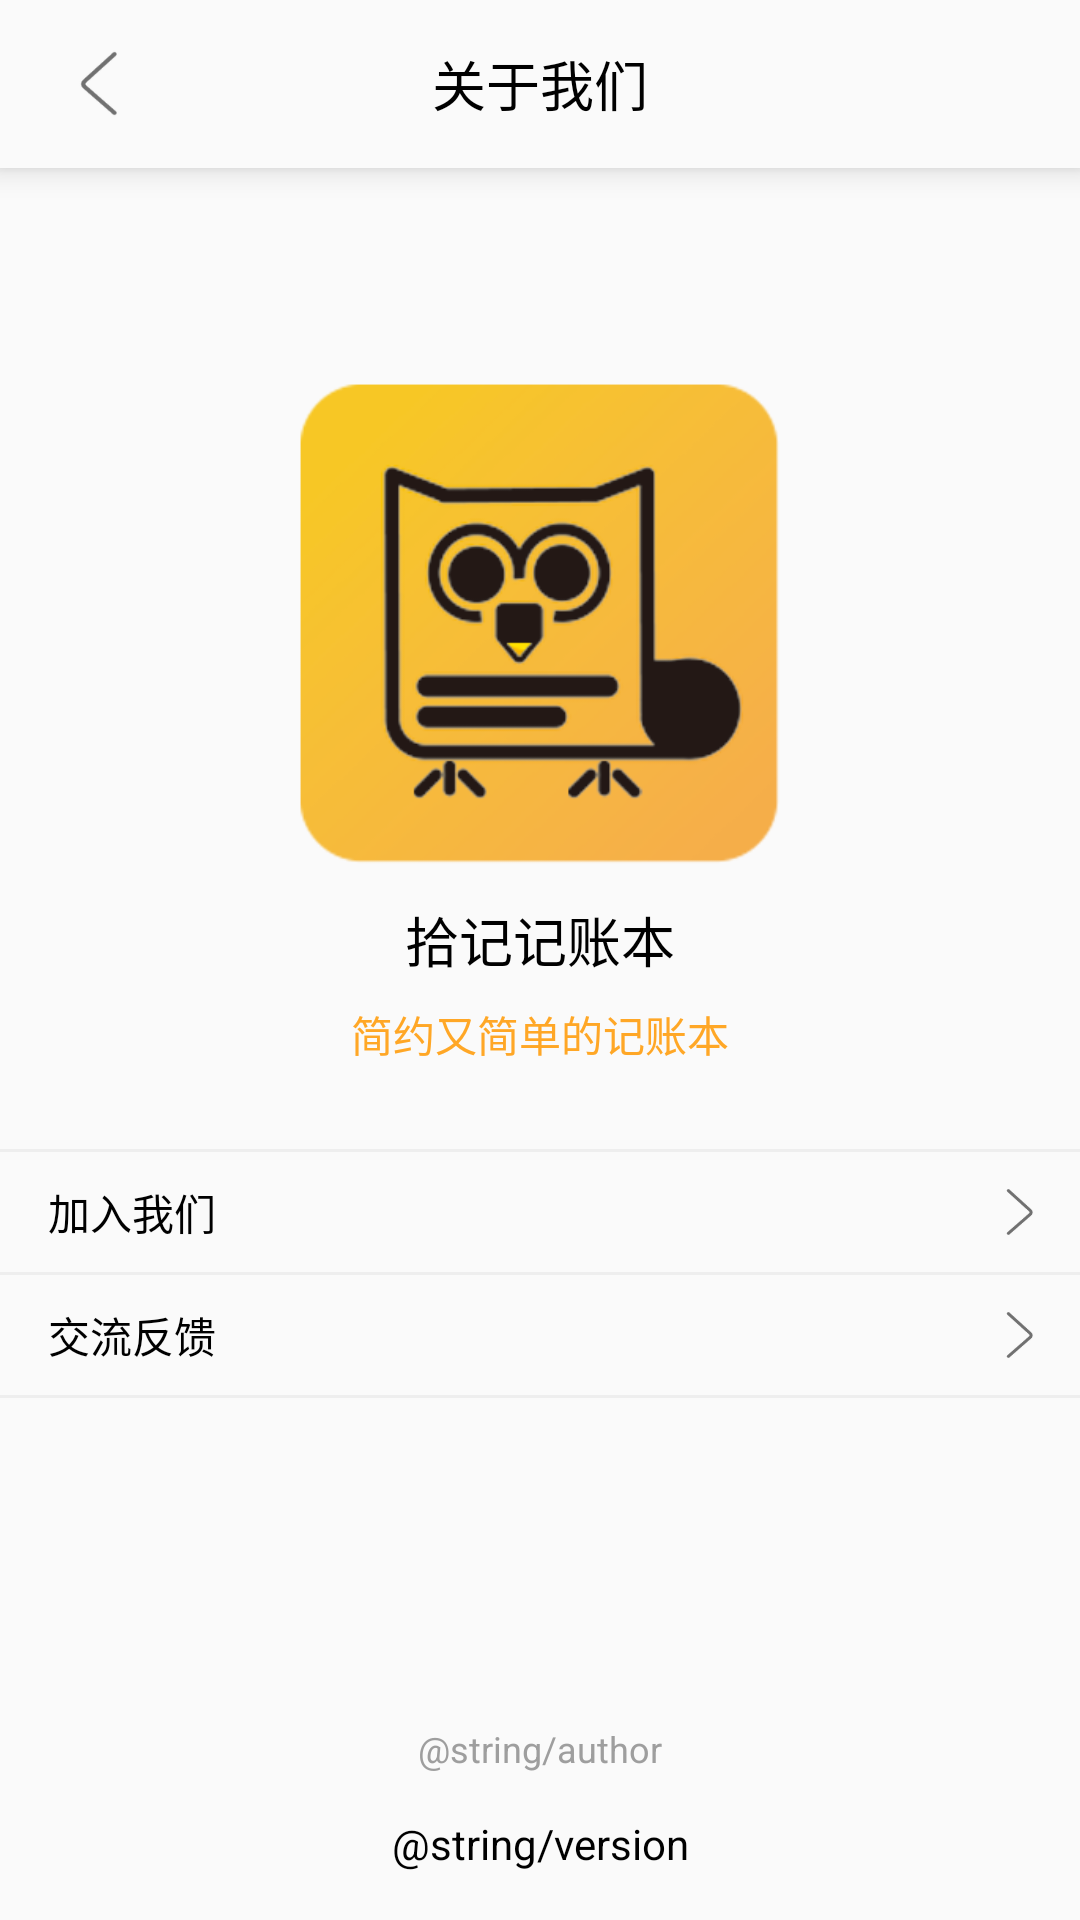

Where icons sit on this 1080px x 1920px app screen, as box(x1, y1, x2, y2):
back: box(81, 52, 117, 115)
more: box(1007, 1189, 1033, 1235), box(1006, 1312, 1033, 1358)
